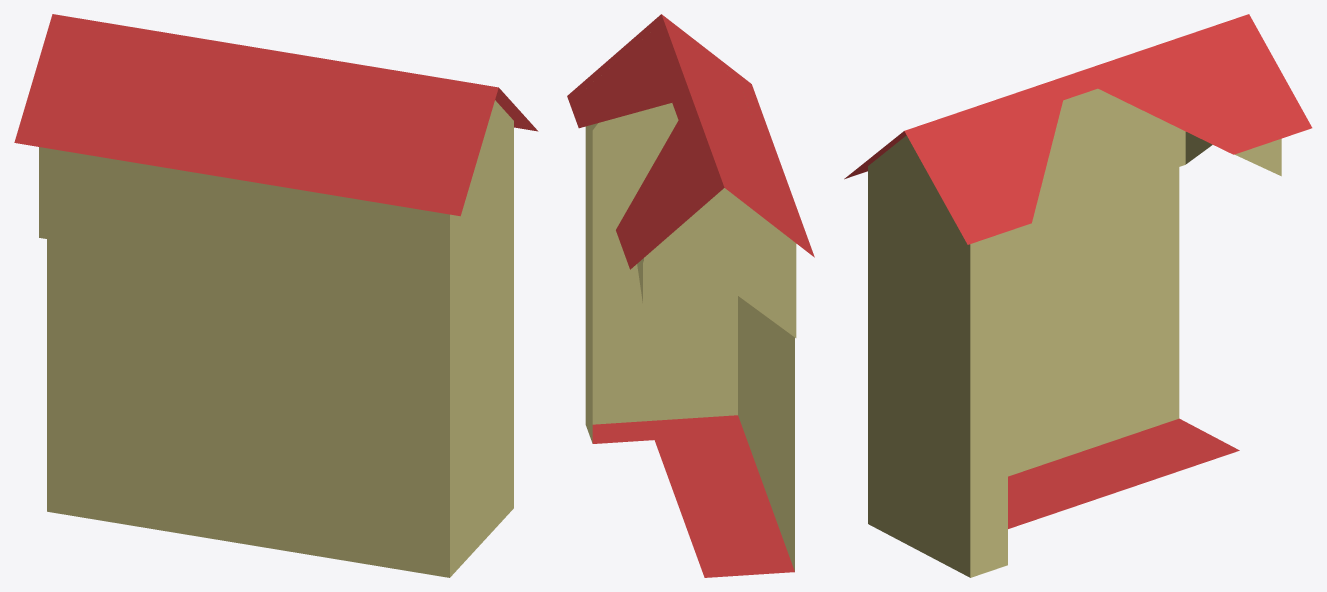
3 renders of one model, left to right at view 1: azimuth 30°, elevation 25°; view 2: azimuth 150°, elevation 25°; view 3: azimuth 270°, elevation 25°, orthographic. The views are drawn at different scales.
Size of the model in its own units: 12.33 by 13.4 by 13.37.
